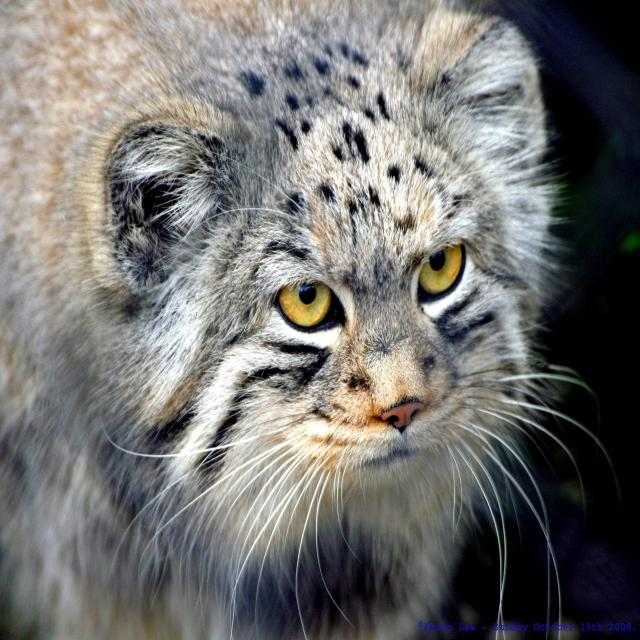Cat: (99, 91, 518, 492)
